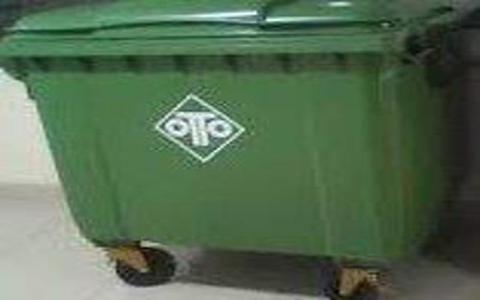Proper garbage: (1, 1, 462, 287)
